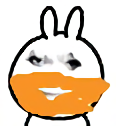dragon: (26, 53, 82, 96)
